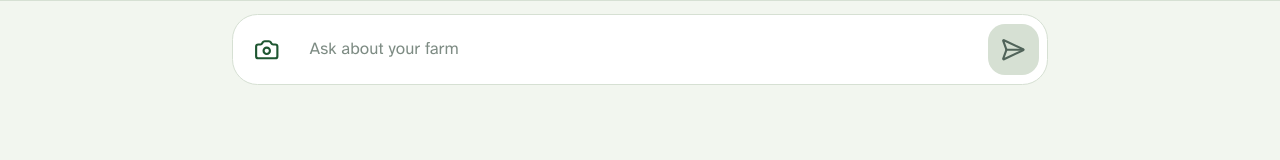
Composer › sends typed text and clears the box
Type "Should I plant maize?" into the text box named "Your question" at (640,49), box [301,23,979,75]
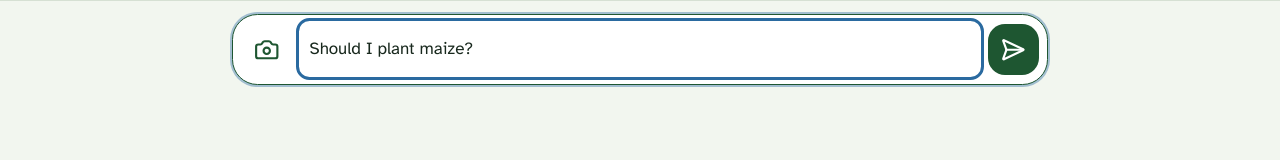
Click the button named "Send" at (1013,50), box [988,24,1038,75]
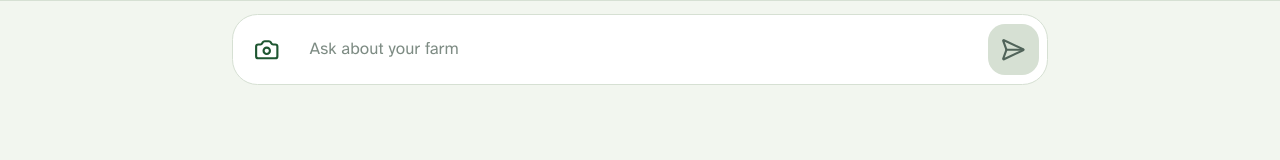
Now the text box named "Your question" is empty, box [301,23,979,75]
